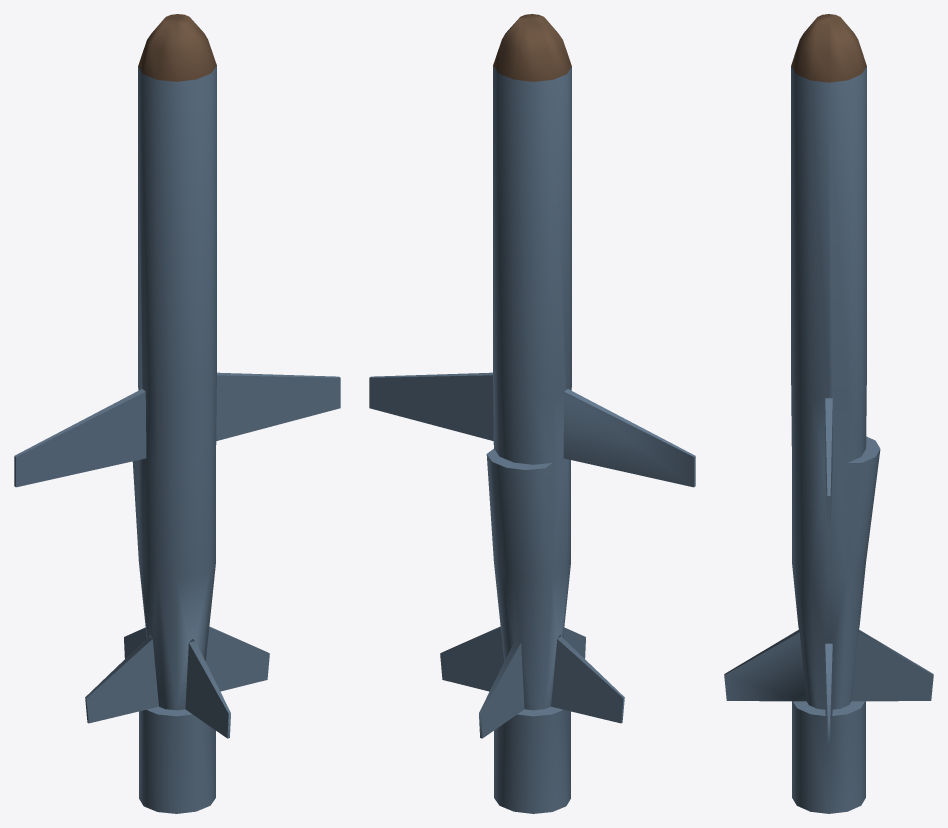
File: bgm109.glb
The picture shows the model from 3 angles, left to right: view 1: azimuth 30°, elevation 25°; view 2: azimuth 150°, elevation 25°; view 3: azimuth 270°, elevation 25°; orthographic projection.
Visible parts, largest first — view 1: db_miss_lv1_LOD child0_body_p13777_Geometry_0.001, db_miss_lv1_LOD child0_wings_p13712_Geometry_0.001, db_miss_lv1_LOD child0_fins_p13726_Geometry_0.001, db_miss_lv1_LOD child0_booster_p13640_Geometry_0.001, db_miss_lv1_LOD child0_whead_p13676_Geometry_0.001; view 2: db_miss_lv1_LOD child0_body_p13777_Geometry_0.001, db_miss_lv1_LOD child0_wings_p13712_Geometry_0.001, db_miss_lv1_LOD child0_fins_p13726_Geometry_0.001, db_miss_lv1_LOD child0_booster_p13640_Geometry_0.001, db_miss_lv1_LOD child0_whead_p13676_Geometry_0.001; view 3: db_miss_lv1_LOD child0_body_p13777_Geometry_0.001, db_miss_lv1_LOD child0_fins_p13726_Geometry_0.001, db_miss_lv1_LOD child0_booster_p13640_Geometry_0.001, db_miss_lv1_LOD child0_whead_p13676_Geometry_0.001, db_miss_lv1_LOD child0_wings_p13712_Geometry_0.001.
Boxes of the visible parts, bbox=[...] form: db_miss_lv1_LOD child0_body_p13777_Geometry_0.001: bbox=[132, 65, 216, 710]; db_miss_lv1_LOD child0_wings_p13712_Geometry_0.001: bbox=[14, 372, 340, 487]; db_miss_lv1_LOD child0_fins_p13726_Geometry_0.001: bbox=[85, 626, 269, 738]; db_miss_lv1_LOD child0_booster_p13640_Geometry_0.001: bbox=[139, 706, 215, 813]; db_miss_lv1_LOD child0_whead_p13676_Geometry_0.001: bbox=[138, 14, 216, 81]; db_miss_lv1_LOD child0_body_p13777_Geometry_0.001: bbox=[486, 65, 571, 710]; db_miss_lv1_LOD child0_wings_p13712_Geometry_0.001: bbox=[369, 372, 695, 487]; db_miss_lv1_LOD child0_fins_p13726_Geometry_0.001: bbox=[440, 626, 624, 738]; db_miss_lv1_LOD child0_booster_p13640_Geometry_0.001: bbox=[494, 706, 570, 813]; db_miss_lv1_LOD child0_whead_p13676_Geometry_0.001: bbox=[493, 14, 571, 81]; db_miss_lv1_LOD child0_body_p13777_Geometry_0.001: bbox=[791, 66, 880, 709]; db_miss_lv1_LOD child0_fins_p13726_Geometry_0.001: bbox=[724, 629, 933, 744]; db_miss_lv1_LOD child0_booster_p13640_Geometry_0.001: bbox=[792, 701, 865, 813]; db_miss_lv1_LOD child0_whead_p13676_Geometry_0.001: bbox=[791, 14, 866, 82]; db_miss_lv1_LOD child0_wings_p13712_Geometry_0.001: bbox=[825, 398, 880, 525].
Size of the model in its own units: 2.35 by 5.4 by 1.32.
